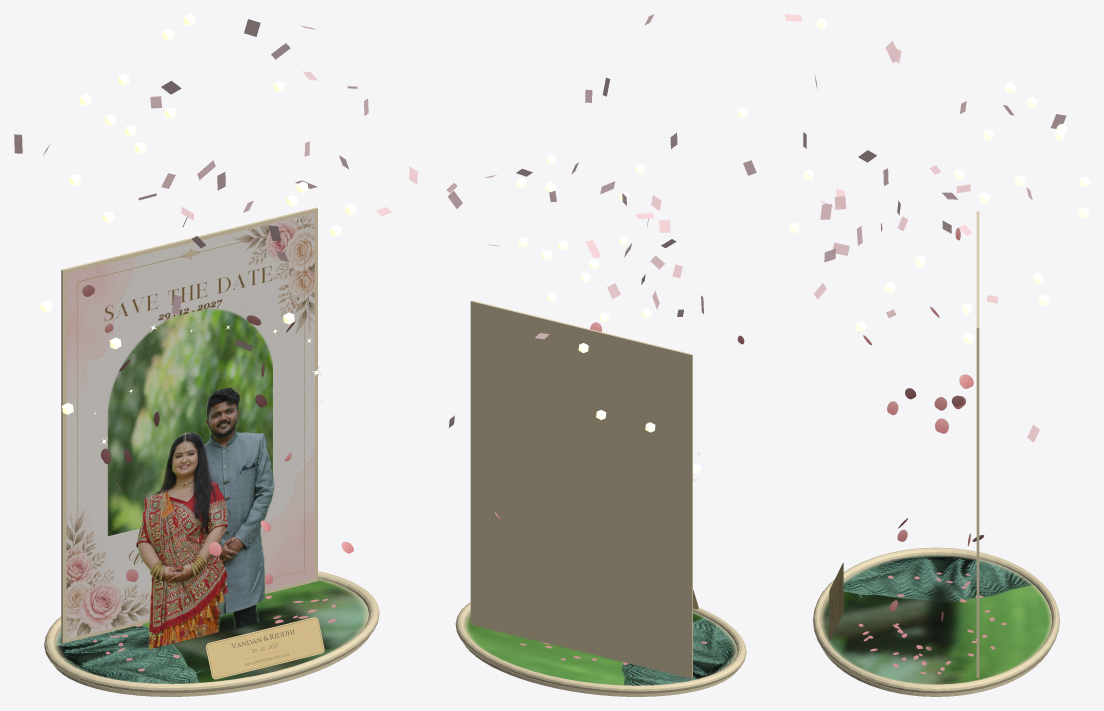
File: vandan_riddhi_stage_particles.glb
The picture shows the model from 3 angles, left to right: view 1: azimuth 30°, elevation 25°; view 2: azimuth 150°, elevation 25°; view 3: azimuth 270°, elevation 25°; orthographic projection. The views are drawn at different scales.
Parts seen in each view (by area): view 1: Card_Backdrop, Standing_Couple, Ground_Lawn, Arch_Gold_Backing, Gold_Pedestal_Rim, Front_Gold_Plaque, Pedestal_Gold_Base; view 2: Arch_Gold_Backing, Ground_Lawn, Gold_Pedestal_Rim, Pedestal_Gold_Base; view 3: Ground_Lawn, Gold_Pedestal_Rim, Pedestal_Gold_Base, Arch_Gold_Backing, Front_Gold_Plaque.
Part boxes in pixels (<box>): Card_Backdrop: <box>66,213,314,638</box>; Standing_Couple: <box>136,387,274,649</box>; Ground_Lawn: <box>55,579,368,683</box>; Arch_Gold_Backing: <box>61,207,317,643</box>; Gold_Pedestal_Rim: <box>44,571,379,693</box>; Front_Gold_Plaque: <box>206,617,324,679</box>; Pedestal_Gold_Base: <box>53,579,370,696</box>; Arch_Gold_Backing: <box>470,300,692,678</box>; Ground_Lawn: <box>465,612,736,685</box>; Gold_Pedestal_Rim: <box>455,602,746,693</box>; Pedestal_Gold_Base: <box>463,612,738,696</box>; Ground_Lawn: <box>821,554,1051,684</box>; Gold_Pedestal_Rim: <box>813,547,1059,693</box>; Pedestal_Gold_Base: <box>821,554,1051,696</box>; Arch_Gold_Backing: <box>976,211,979,677</box>; Front_Gold_Plaque: <box>829,563,843,640</box>.
Size of the model in its own units: 1.38 by 2.76 by 1.22.
Materials: 9 (6 with a texture image).
